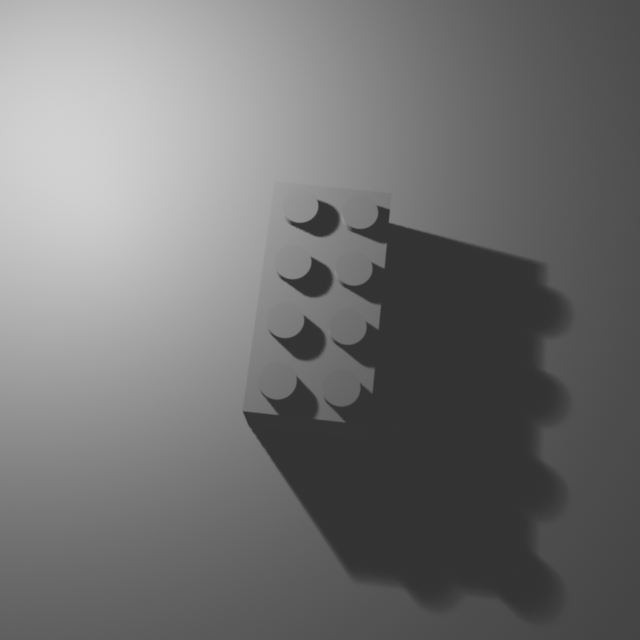lego_2x4: (241, 176, 393, 438)
